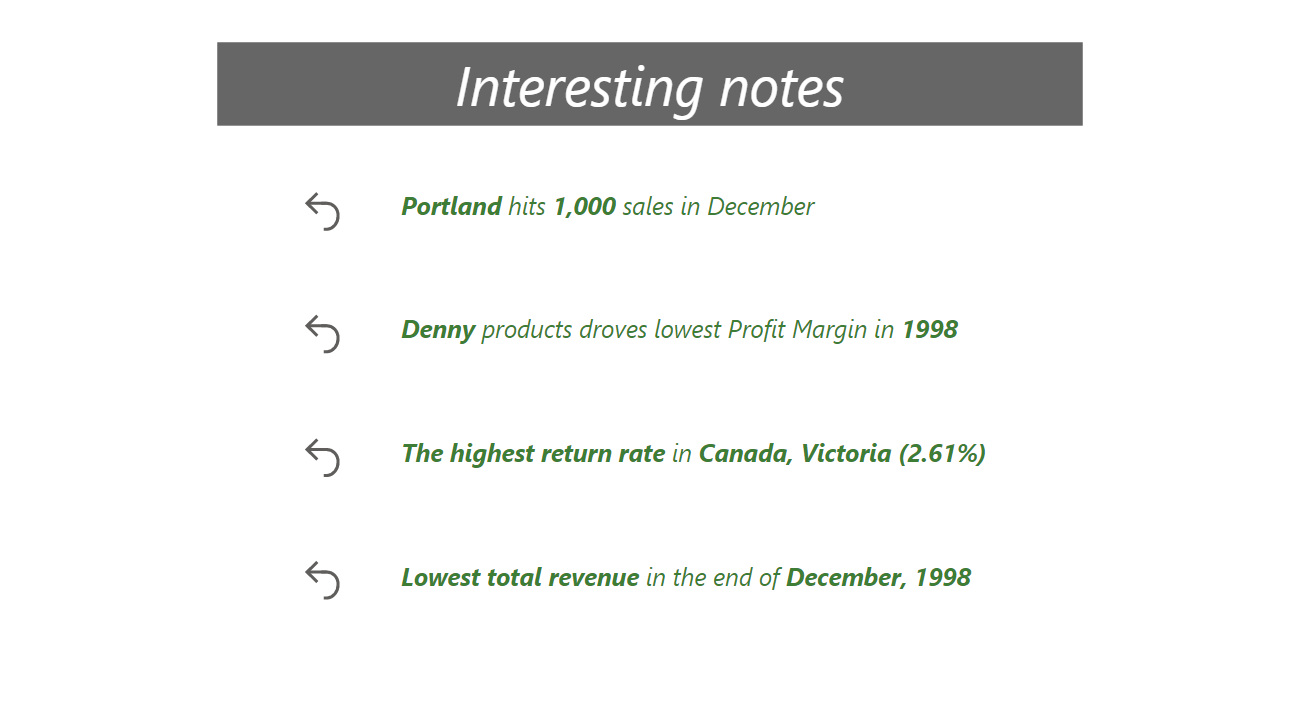

This screenshot's page, from the dashboard's own definition file:
{"tool":"powerbi","page":{"name":"Notes","canvas":[1280,720],"ordinal":1},"visuals":[{"type":"textbox","box":[391,188.7,441.6,51.6],"z":1000},{"type":"textbox","box":[216.9,49.6,846.2,81.7],"z":2000},{"type":"actionButton","box":[294.7,190.6,96.3,49.6],"z":3000},{"type":"actionButton","box":[294.7,310.9,96.3,49.6],"z":4000},{"type":"actionButton","box":[294.7,431.2,96.3,49.6],"z":5000},{"type":"actionButton","box":[294.7,551.5,96.3,49.6],"z":6000},{"type":"textbox","box":[391,309.3,613.7,51.6],"z":7000},{"type":"textbox","box":[391.3,430.7,639.4,51],"z":8000},{"type":"textbox","box":[391.3,551.6,583,51],"z":9000}]}

Visuals, with their boxes in screenshot pixels (x1, y1, x2, y2), scaled from the page's 1280x720 canvas onto the 1298x721 screenshot:
textbox: bbox=[396, 189, 844, 241]
textbox: bbox=[220, 50, 1078, 131]
actionButton: bbox=[299, 191, 396, 241]
actionButton: bbox=[299, 311, 396, 361]
actionButton: bbox=[299, 432, 396, 481]
actionButton: bbox=[299, 552, 396, 602]
textbox: bbox=[396, 310, 1019, 361]
textbox: bbox=[397, 431, 1045, 482]
textbox: bbox=[397, 552, 988, 603]
